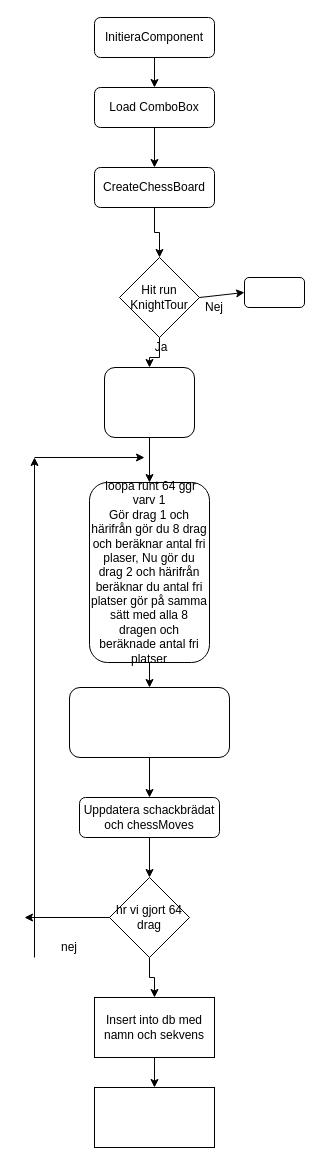
Some shapes in this 322 by 1165 pixel diagram are drawn without their labels. Here are the shapes that lost their labels. From the top down, the centre of each, then its label:
At (x=274, y=292): "Gör inget".
At (x=149, y=402): "Input namn och rad, kol".
At (x=149, y=722): "Spara platsen som gav minst antal fria platser att gå till".
At (x=154, y=1117): "Läs db med alla personer som har köer KnightTour och ladda Combo".
